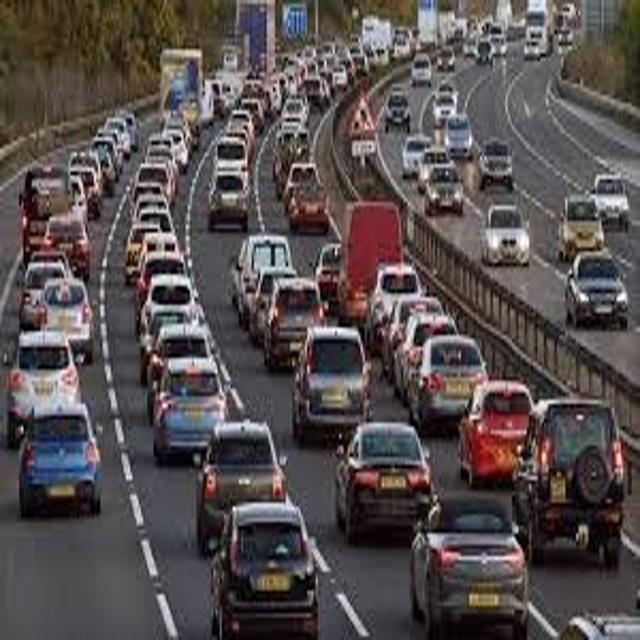car: (514, 400, 626, 566), (408, 495, 529, 631), (207, 503, 322, 637), (194, 418, 288, 549), (333, 422, 433, 543), (291, 327, 375, 448), (16, 405, 102, 517), (3, 332, 83, 442), (458, 381, 540, 486), (152, 358, 231, 464), (408, 336, 489, 424), (30, 278, 97, 363), (566, 252, 628, 328), (481, 206, 529, 263), (558, 197, 603, 250), (478, 137, 514, 189), (426, 168, 464, 212)
